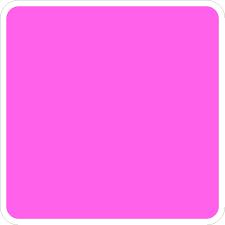pink_zone: (4, 6, 221, 222)
